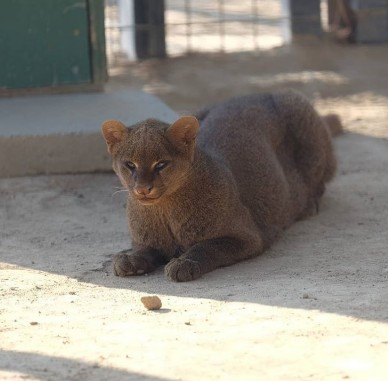Jaguarundi: (98, 83, 343, 288)
